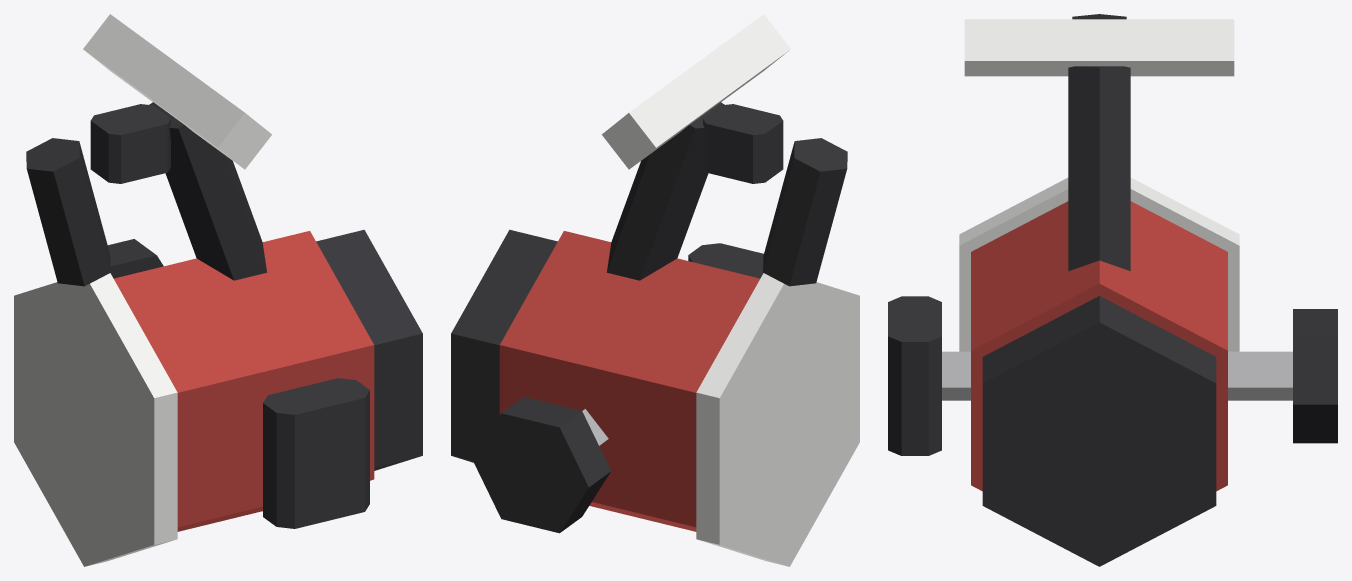
The model's file is throttle_body_race_lod2.glb.
3 renders of one model, left to right at view 1: azimuth 30°, elevation 25°; view 2: azimuth 150°, elevation 25°; view 3: azimuth 270°, elevation 25°, orthographic.
Visible parts, largest first — view 1: throttle_body_race_lod2; view 2: throttle_body_race_lod2; view 3: throttle_body_race_lod2.
Boxes of the visible parts, x1,y1,x2,y2 form: throttle_body_race_lod2: (14,14,422,566); throttle_body_race_lod2: (451,14,859,566); throttle_body_race_lod2: (888,14,1337,566).
Size of the model in its own units: 0.0868 by 0.118 by 0.1.
